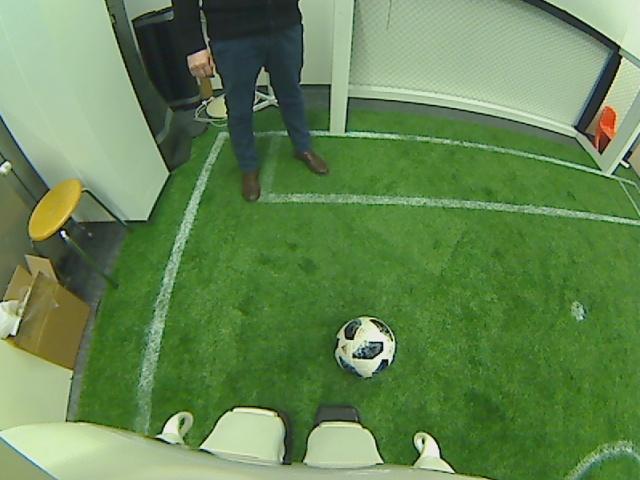ball: (331, 312, 396, 379)
